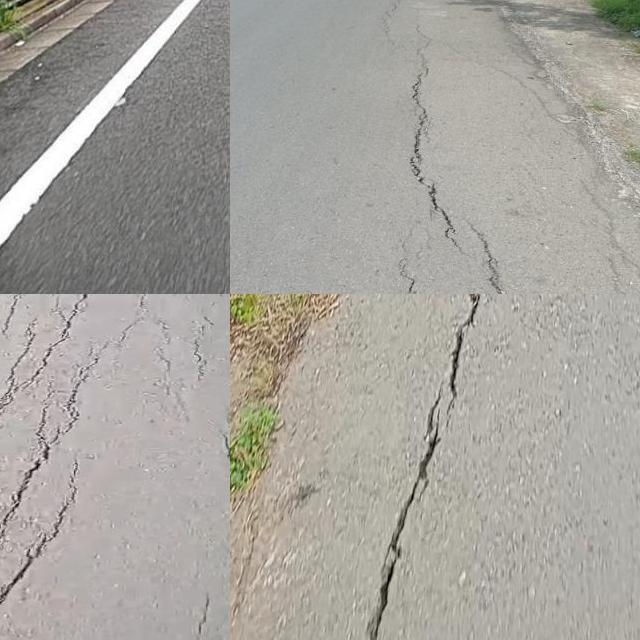Memanjang: (346, 294, 497, 640), (0, 325, 139, 559), (0, 457, 90, 621), (395, 41, 464, 251), (455, 224, 523, 294)
